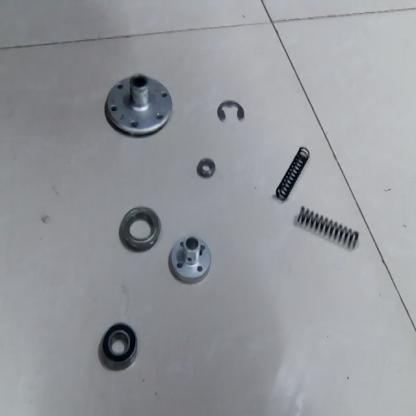FOD: (100, 68, 174, 140), (292, 204, 364, 252), (166, 233, 214, 287), (118, 203, 163, 255), (96, 320, 139, 374), (275, 142, 311, 206), (216, 98, 245, 130), (196, 156, 216, 182)
